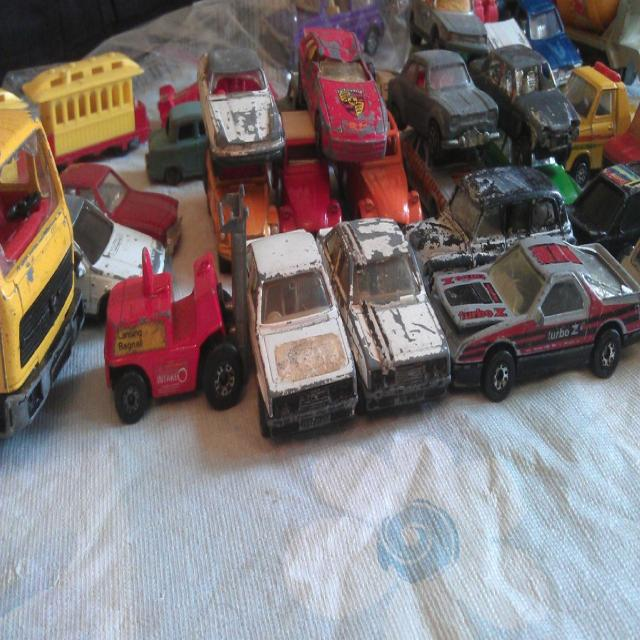car: (424, 208, 621, 399)
